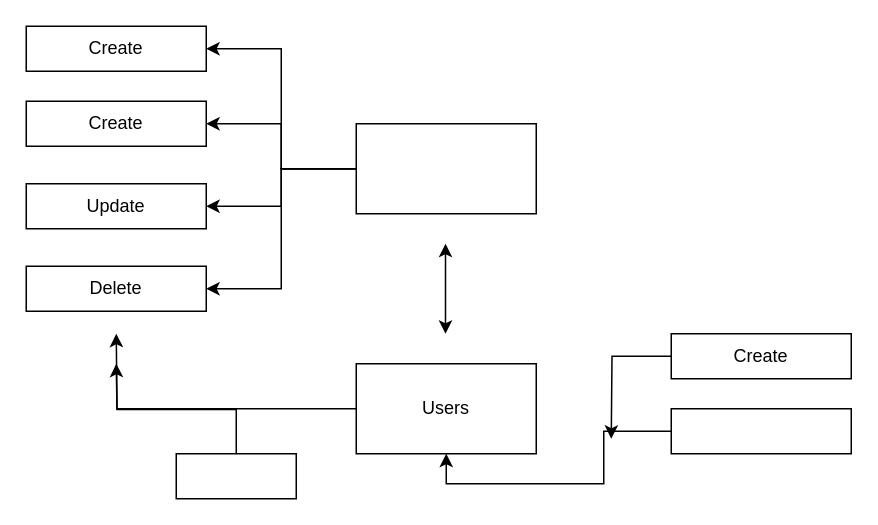
Image size: 878x525. Some labels were removed from this diagram. Each missing label, with the centre of its shape:
Events: point (445, 168)
Filter: point (235, 475)
Login: point (760, 430)
